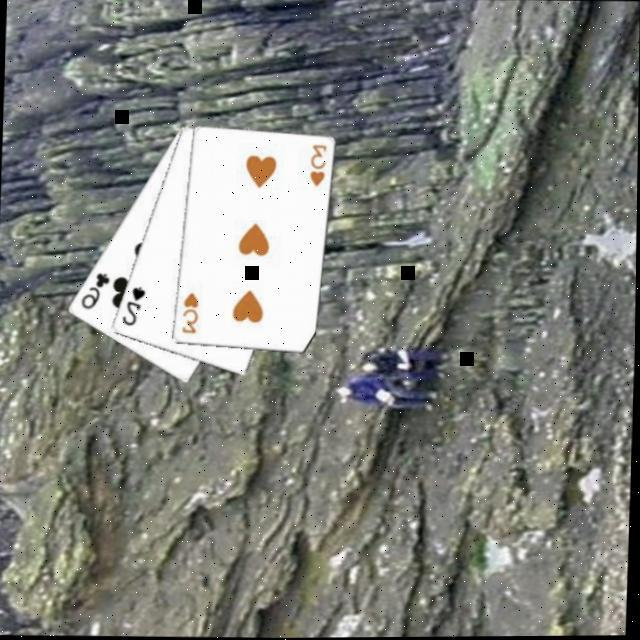2S: (116, 282, 146, 328)
3H: (303, 141, 327, 188), (177, 289, 200, 335)
9C: (75, 268, 111, 311)
